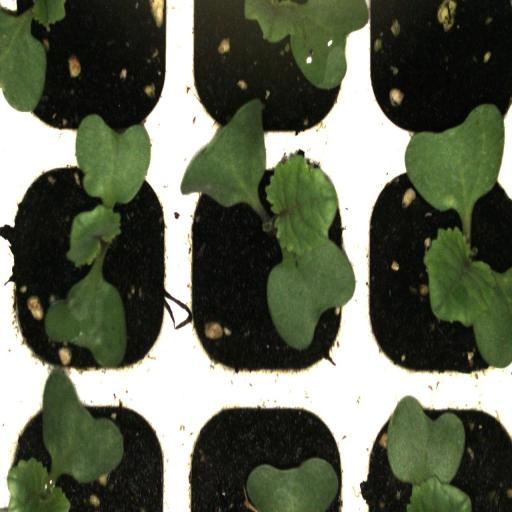Folha: (0, 370, 124, 512), (238, 0, 368, 91), (387, 396, 472, 512), (0, 0, 66, 112), (246, 457, 339, 512)
Germinacao: (179, 151, 355, 391), (2, 148, 179, 386), (357, 147, 512, 394)
